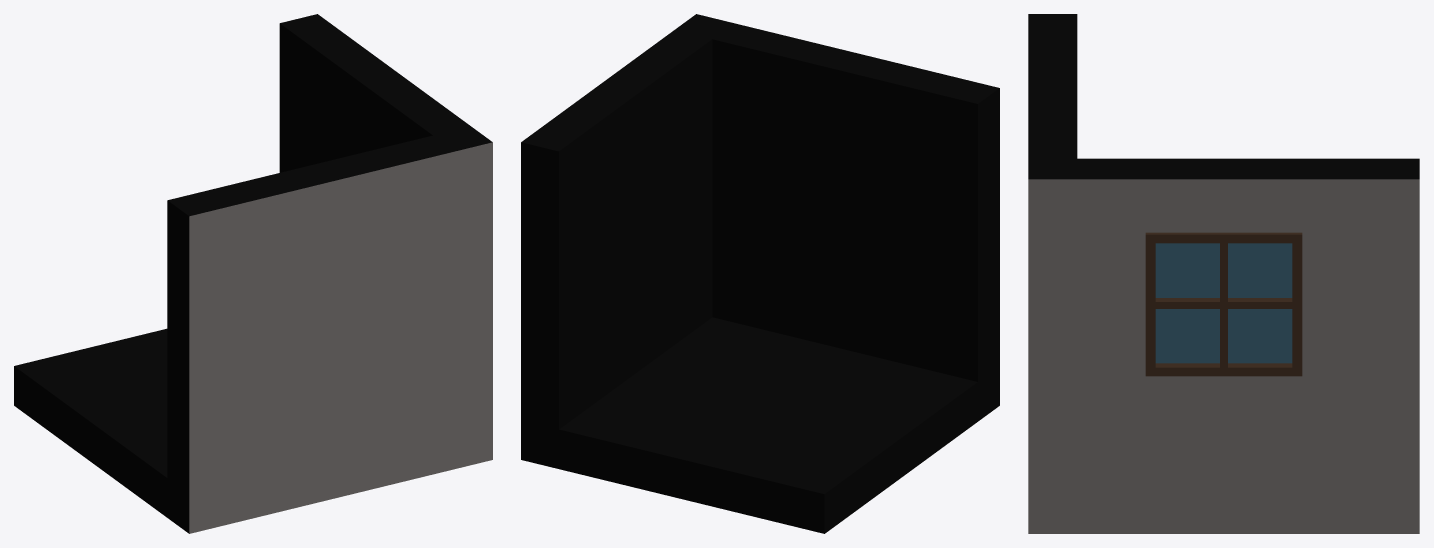
The picture shows the model from 3 angles, left to right: view 1: azimuth 30°, elevation 25°; view 2: azimuth 150°, elevation 25°; view 3: azimuth 270°, elevation 25°; orthographic projection. The views are drawn at different scales.
Parts seen in each view (by area): view 1: floor_wall.001; view 2: floor_wall.001; view 3: floor_wall.001.
Boxes of the visible parts, x1,y1,x2,y2 form: floor_wall.001: (14, 14, 492, 533); floor_wall.001: (521, 14, 999, 533); floor_wall.001: (1028, 14, 1419, 533).
Bounding box in the file's own units: 203 × 200 × 200.
